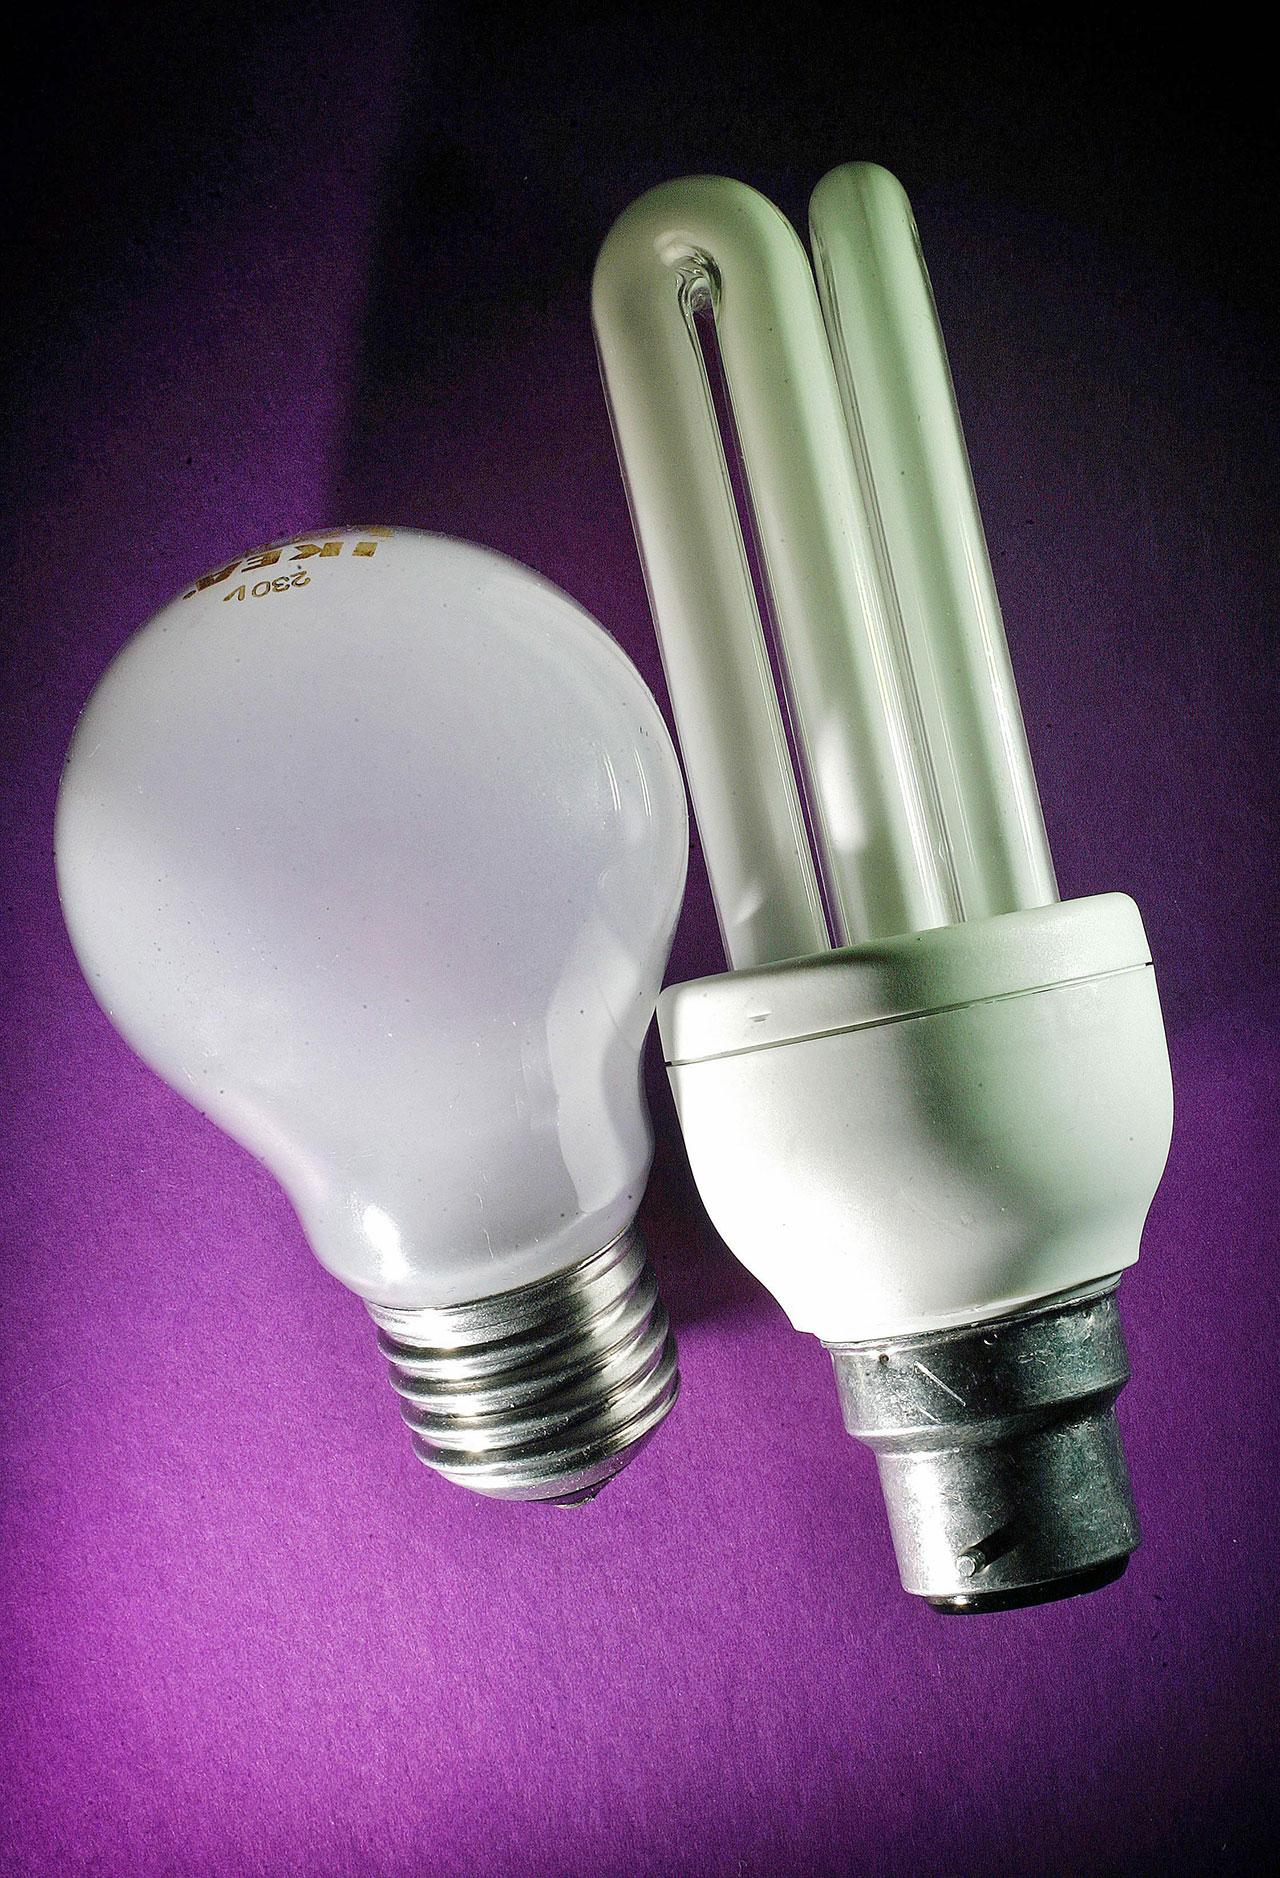Light bulb: (585, 148, 1189, 1621), (43, 512, 709, 1533)
